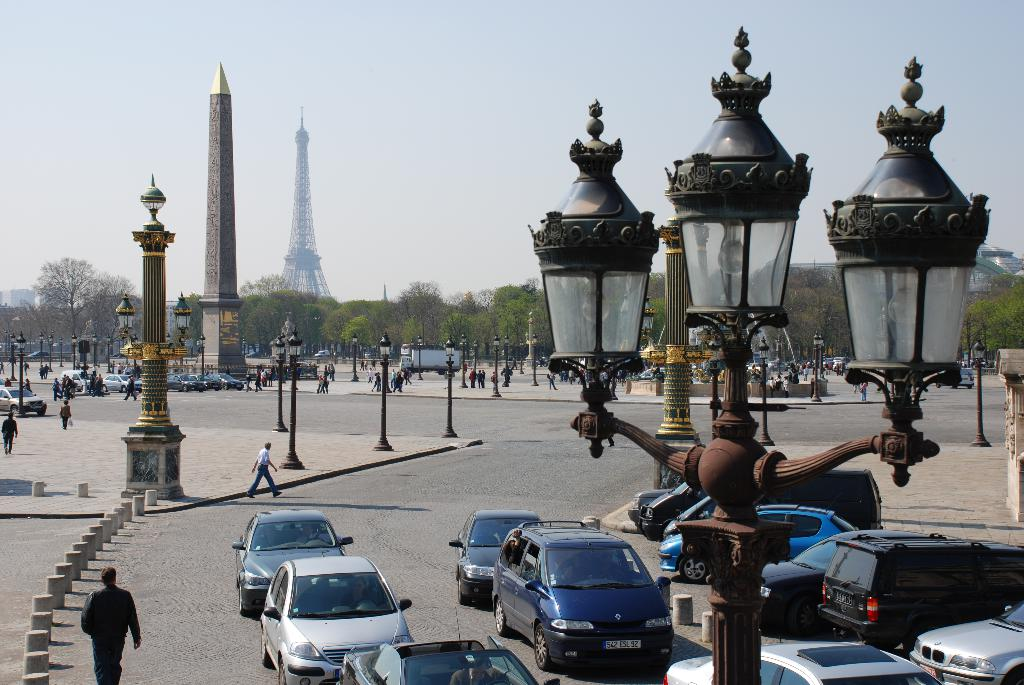car: (484, 514, 693, 680), (812, 520, 1024, 652), (244, 535, 404, 682), (629, 614, 960, 685), (211, 487, 366, 619), (441, 488, 564, 610), (906, 577, 1024, 685), (90, 365, 145, 400), (160, 366, 210, 396), (207, 366, 247, 395)
